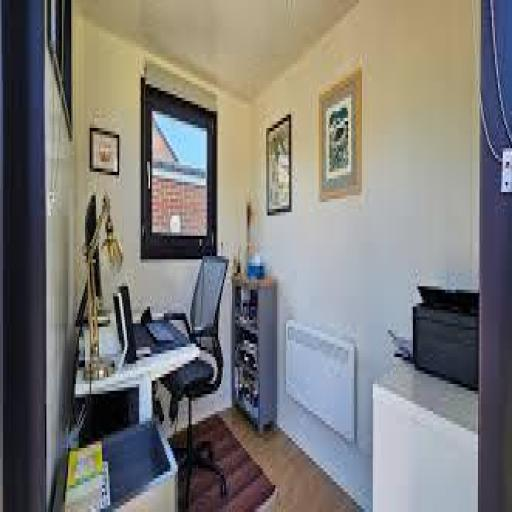chair: (161, 248, 237, 507)
